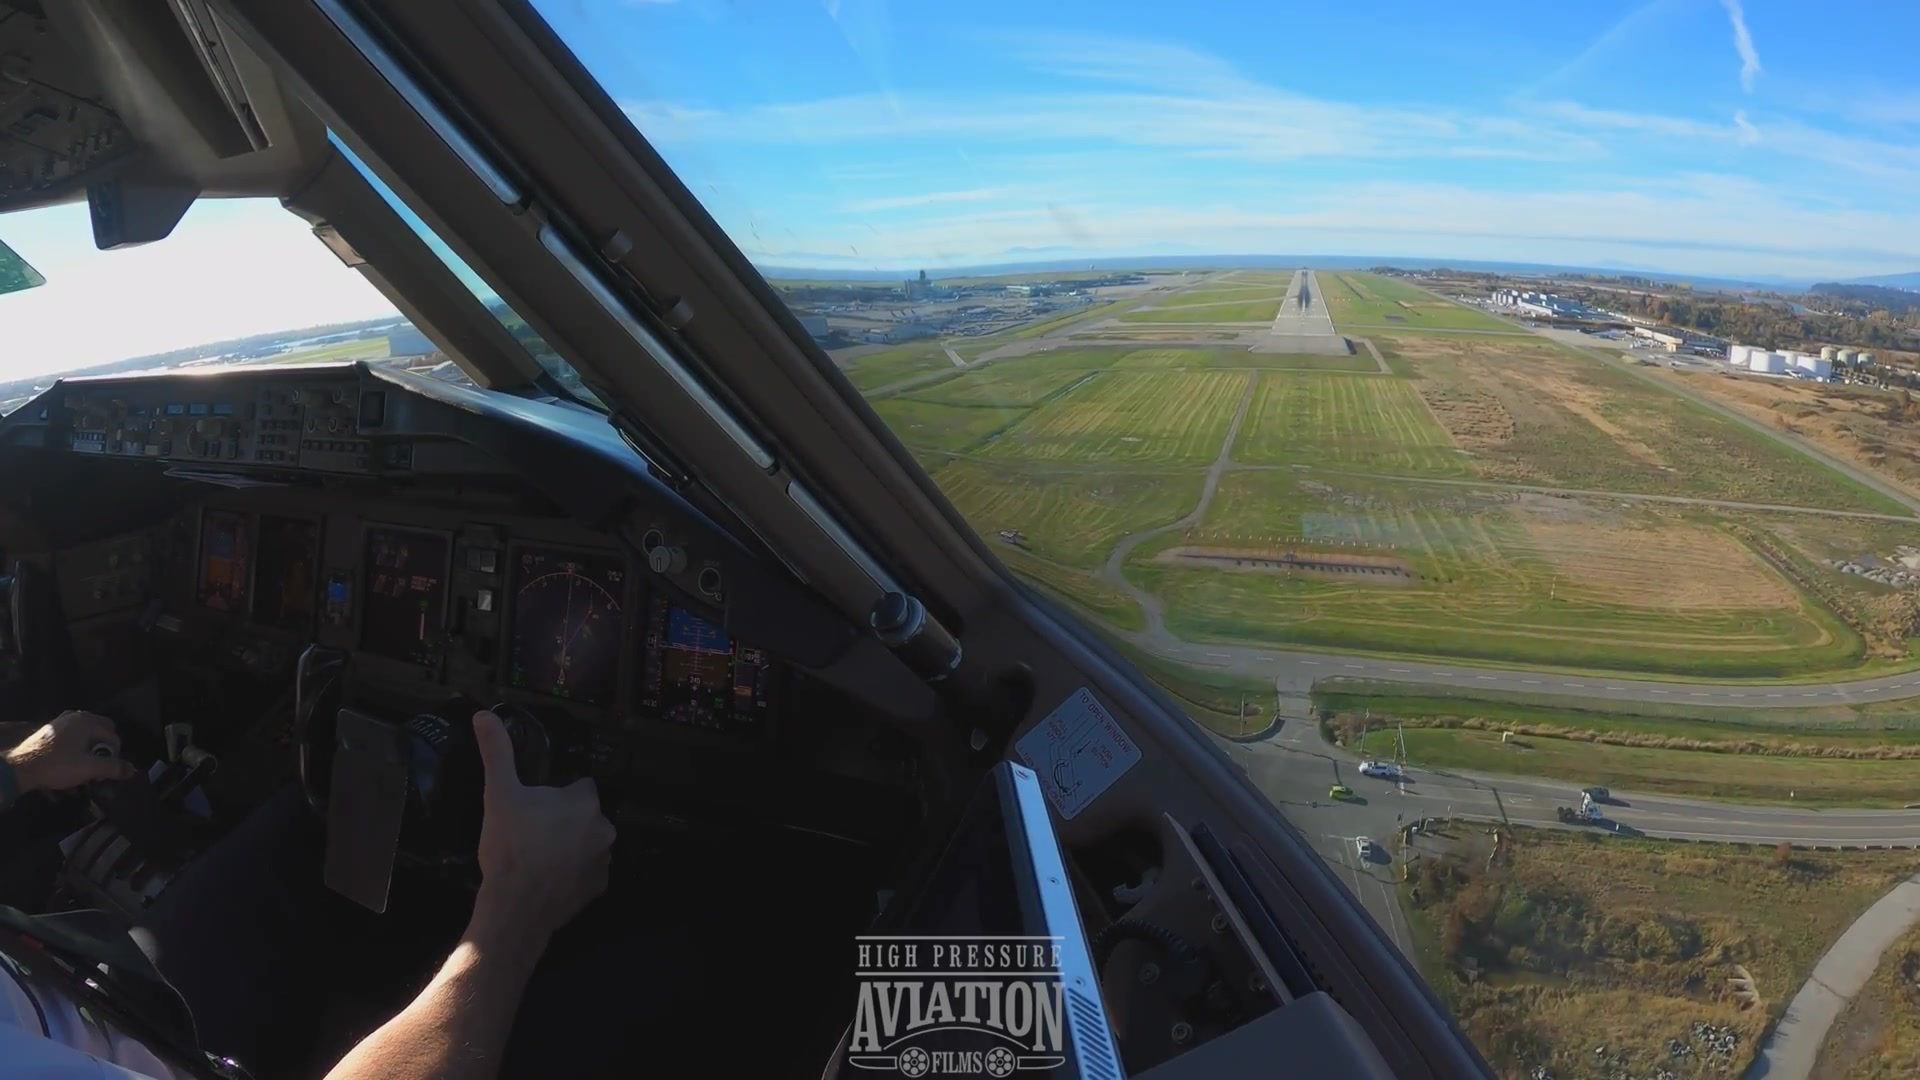entrance: (1275, 313, 1331, 320)
runway: (1270, 269, 1335, 334)
